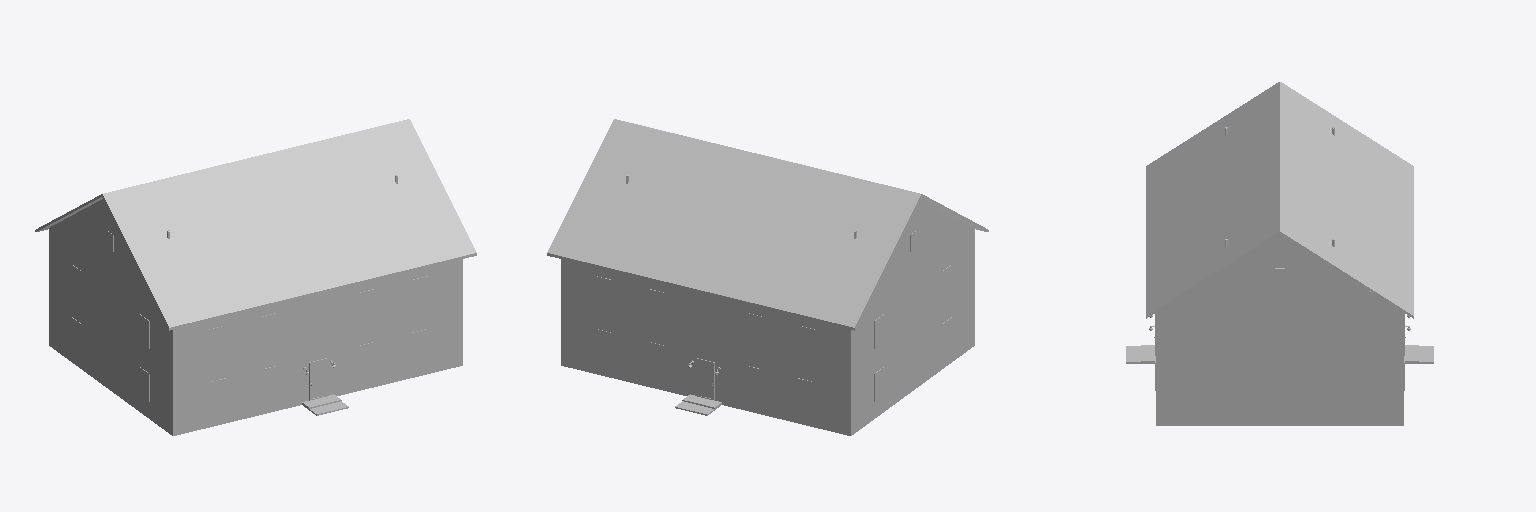
Rendered from lasthouse.obj.
3 renders of one model, left to right at view 1: azimuth 30°, elevation 25°; view 2: azimuth 150°, elevation 25°; view 3: azimuth 270°, elevation 25°, orthographic.
Parts seen in each view (by area): view 1: the_lasthouse; view 2: the_lasthouse; view 3: the_lasthouse.
Part boxes in pixels (x1,y1,x2,y2): the_lasthouse: (35,119,476,435); the_lasthouse: (547,119,988,435); the_lasthouse: (1126,82,1433,425).
Size of the model in its own units: 25.3 by 15.68 by 21.94.